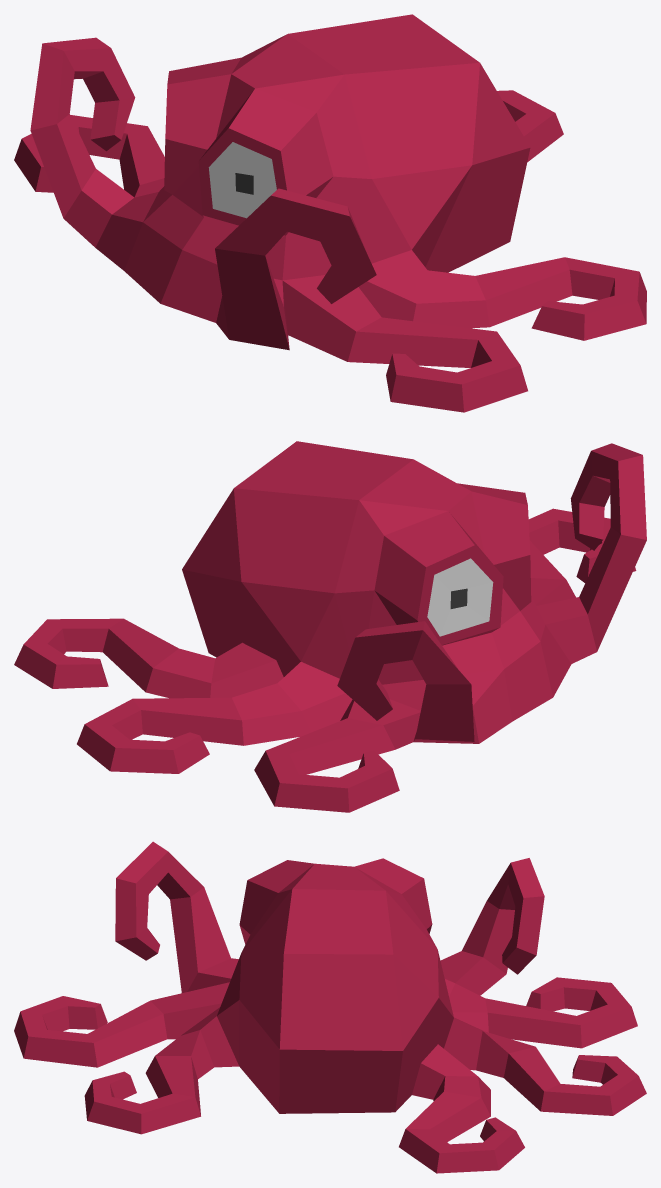
Rendered from Octopus_Shocked.fbx.
3 renders of one model, top to bottom at view 1: azimuth 30°, elevation 25°; view 2: azimuth 150°, elevation 25°; view 3: azimuth 270°, elevation 25°, orthographic. The views are drawn at different scales.
Visible parts, largest first — view 1: Octopus.001; view 2: Octopus.001; view 3: Octopus.001.
Part boxes in pixels (x1,y1,x2,y2): Octopus.001: [14, 14, 646, 412]; Octopus.001: [14, 441, 646, 812]; Octopus.001: [14, 841, 646, 1173].
Size of the model in its own units: 5.81 by 2.25 by 7.88.
